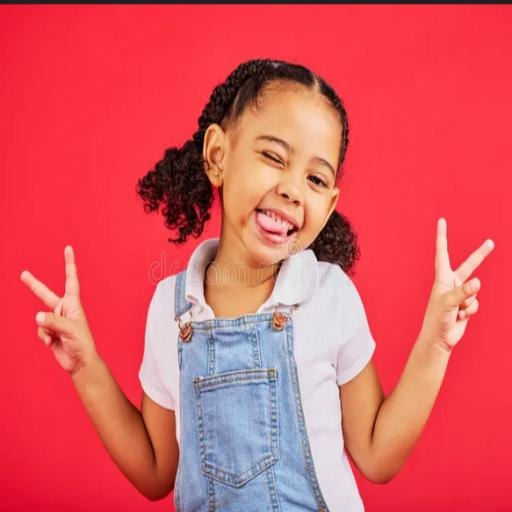Peace: (8, 222, 117, 416), (405, 200, 503, 395)
